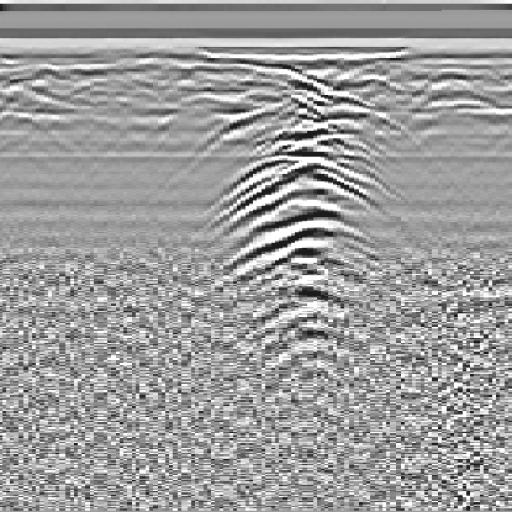metalic: (189, 66, 427, 374)
